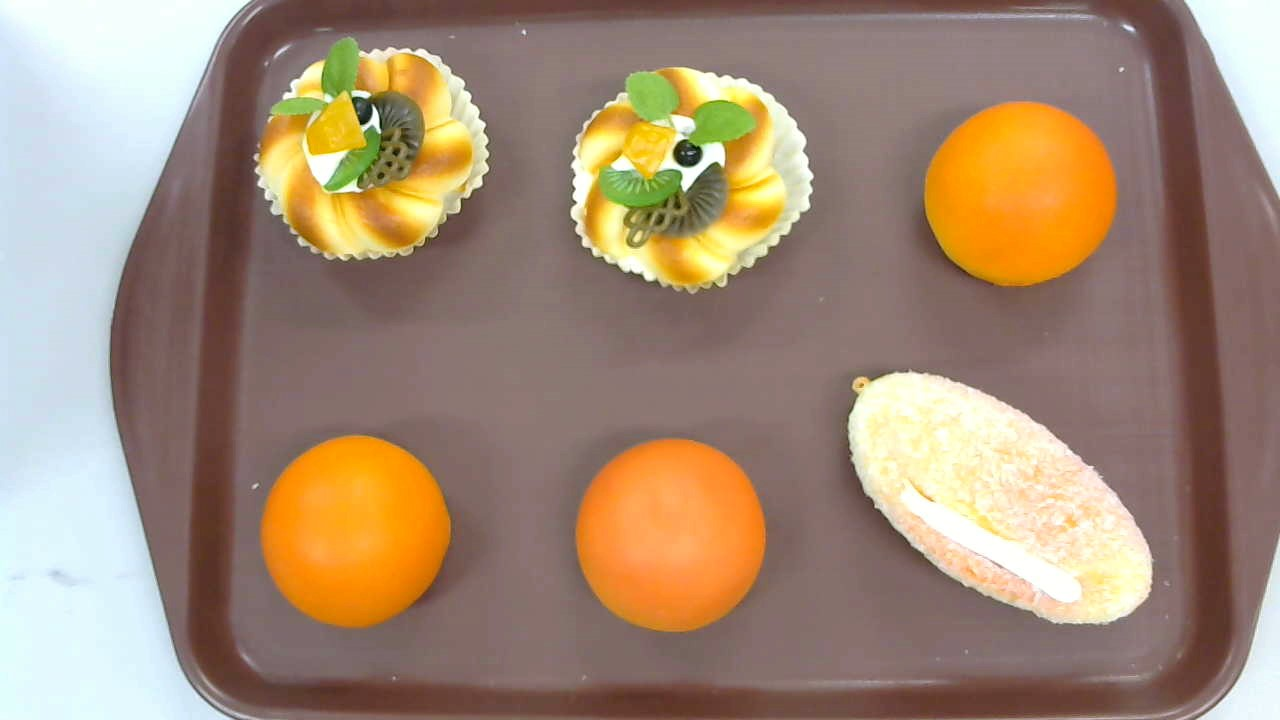bun: (576, 438, 766, 632), (261, 433, 451, 627), (922, 101, 1117, 288)
coconut: (847, 371, 1152, 628)
fruit tart: (569, 66, 816, 292), (254, 37, 490, 262)
